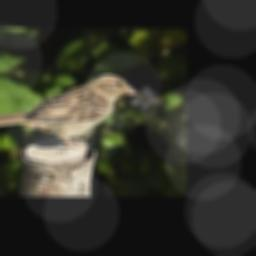Sparrow: (0, 74, 137, 146)
